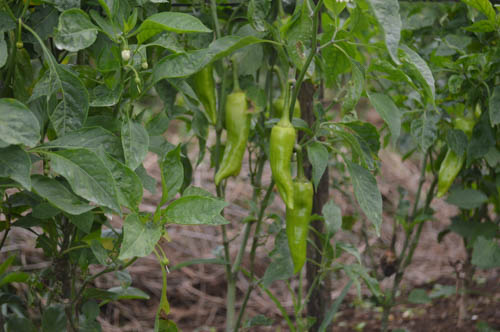ChiliPepper: (208, 92, 250, 193), (434, 119, 473, 200), (265, 125, 299, 209), (281, 179, 312, 271), (183, 66, 219, 122)
